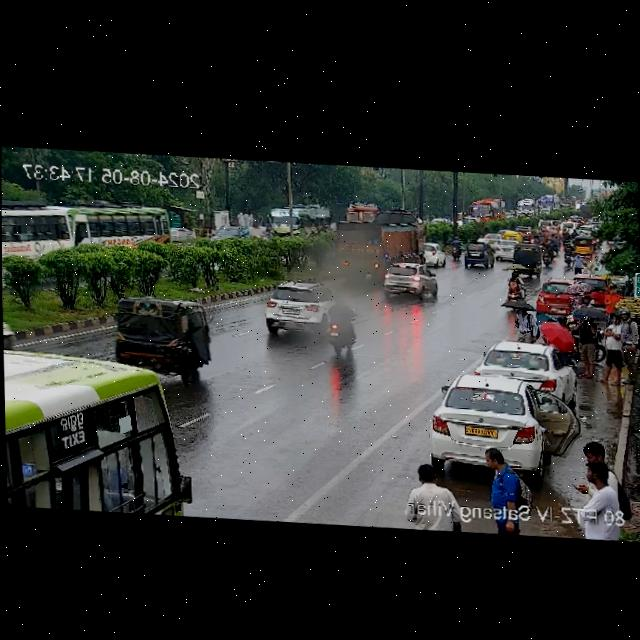bus: (3, 343, 183, 519), (1, 192, 170, 273), (260, 203, 325, 243)
car: (427, 368, 572, 480), (106, 294, 209, 381), (486, 342, 577, 402), (265, 274, 332, 337), (380, 262, 437, 298), (534, 278, 586, 315), (507, 240, 545, 274), (461, 198, 504, 224), (458, 244, 494, 269), (419, 241, 445, 266), (491, 240, 516, 261), (500, 229, 521, 241), (483, 230, 502, 243)
motorcycle: (328, 293, 357, 356), (542, 225, 575, 268), (448, 237, 464, 261)
person: (479, 448, 524, 510), (569, 468, 621, 516), (593, 313, 625, 385), (402, 463, 454, 506), (614, 312, 640, 382), (573, 310, 600, 375), (501, 268, 528, 304), (515, 304, 540, 341), (572, 252, 603, 276), (604, 286, 620, 313)
truck: (331, 204, 422, 262)
